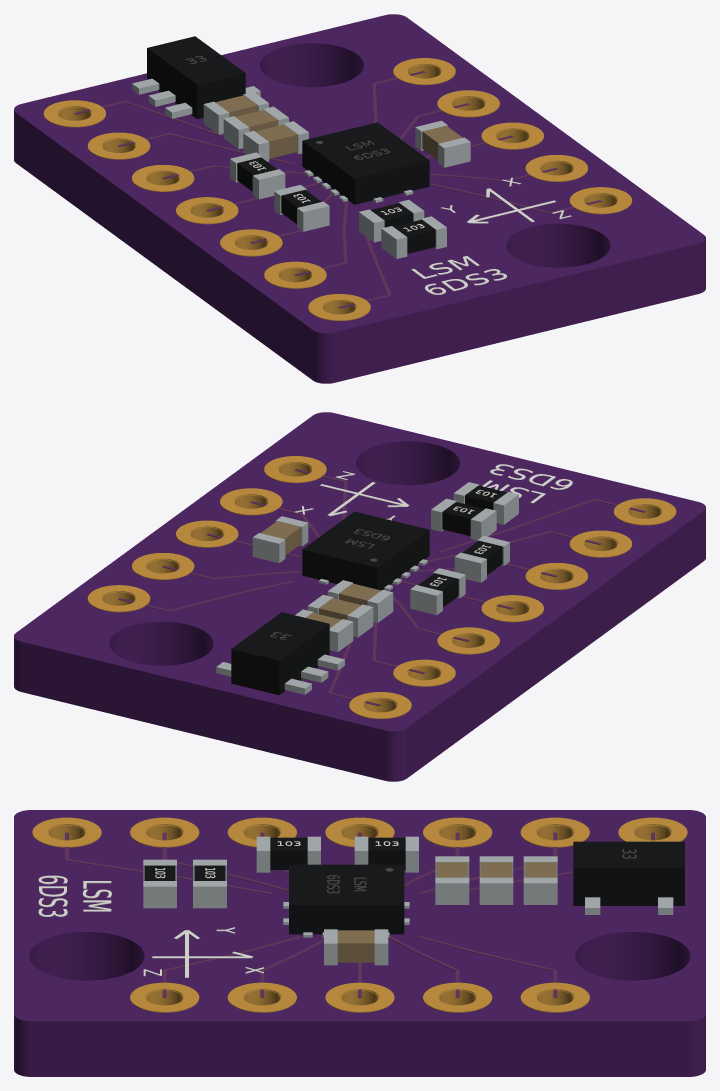
File: GY_LSM6DS3_reference_no_headers.glb
3 views of the same model, one above another, from view 1: azimuth 30°, elevation 25°; view 2: azimuth 150°, elevation 25°; view 3: azimuth 270°, elevation 25° (orthographic). The views are drawn at different scales.
Parts seen in each view (by area): view 1: Purple_PCB_13x18_two_holes_ESTIMATED, LSM6DS3_LGA14_2p5x3x0p83, Regulator_SOT23_5_ESTIMATED, Gold_pad_top_1, Gold_pad_top_2, Gold_pad_top_9, Gold_pad_top_5, Gold_pad_top_10, Gold_pad_top_4, Gold_pad_top_12, Gold_pad_top_6, Gold_pad_top_7 (+19 smaller); view 2: Purple_PCB_13x18_two_holes_ESTIMATED, LSM6DS3_LGA14_2p5x3x0p83, Regulator_SOT23_5_ESTIMATED, Gold_pad_top_7, Gold_pad_top_6, Gold_pad_top_11, Gold_pad_top_3, Gold_pad_top_10, Gold_pad_top_4, Gold_pad_top_8, Gold_pad_top_2, Gold_pad_top_1 (+18 smaller); view 3: Purple_PCB_13x18_two_holes_ESTIMATED, LSM6DS3_LGA14_2p5x3x0p83, Regulator_SOT23_5_ESTIMATED, Gold_pad_top_9, Gold_pad_top_11, Gold_pad_top_8, Gold_pad_top_10, Gold_pad_top_12, Gold_pad_top_3, Gold_pad_top_6, Gold_pad_top_7, Capacitor_right_body (+36 smaller).
Boxes of the visible parts, bbox=[...] form: Purple_PCB_13x18_two_holes_ESTIMATED: bbox=[14, 14, 705, 383]; LSM6DS3_LGA14_2p5x3x0p83: bbox=[302, 122, 429, 204]; Regulator_SOT23_5_ESTIMATED: bbox=[147, 36, 245, 119]; Gold_pad_top_1: bbox=[43, 100, 106, 127]; Gold_pad_top_2: bbox=[87, 132, 150, 159]; Gold_pad_top_9: bbox=[437, 90, 499, 117]; Gold_pad_top_5: bbox=[220, 229, 282, 256]; Gold_pad_top_10: bbox=[481, 122, 543, 149]; Gold_pad_top_4: bbox=[176, 197, 238, 224]; Gold_pad_top_12: bbox=[569, 187, 632, 214]; Gold_pad_top_6: bbox=[264, 261, 326, 288]; Gold_pad_top_7: bbox=[308, 294, 370, 320]; Purple_PCB_13x18_two_holes_ESTIMATED: bbox=[14, 412, 705, 781]; LSM6DS3_LGA14_2p5x3x0p83: bbox=[302, 511, 429, 590]; Regulator_SOT23_5_ESTIMATED: bbox=[231, 612, 329, 695]; Gold_pad_top_7: bbox=[613, 498, 676, 525]; Gold_pad_top_6: bbox=[569, 530, 632, 557]; Gold_pad_top_11: bbox=[220, 488, 282, 515]; Gold_pad_top_3: bbox=[437, 627, 499, 654]; Gold_pad_top_10: bbox=[176, 520, 238, 547]; Gold_pad_top_4: bbox=[481, 595, 543, 622]; Gold_pad_top_8: bbox=[87, 585, 150, 612]; Gold_pad_top_2: bbox=[393, 659, 455, 686]; Gold_pad_top_1: bbox=[349, 692, 411, 718]; Purple_PCB_13x18_two_holes_ESTIMATED: bbox=[14, 810, 705, 1076]; LSM6DS3_LGA14_2p5x3x0p83: bbox=[289, 864, 404, 934]; Regulator_SOT23_5_ESTIMATED: bbox=[573, 841, 684, 905]; Gold_pad_top_9: bbox=[423, 982, 492, 1012]; Gold_pad_top_11: bbox=[227, 982, 296, 1012]; Gold_pad_top_8: bbox=[520, 982, 589, 1012]; Gold_pad_top_10: bbox=[325, 982, 394, 1012]; Gold_pad_top_12: bbox=[130, 982, 199, 1012]; Gold_pad_top_3: bbox=[423, 817, 492, 847]; Gold_pad_top_6: bbox=[130, 817, 199, 847]; Gold_pad_top_7: bbox=[32, 817, 101, 847]; Capacitor_right_body: bbox=[337, 930, 374, 962].
Size of the model in its own units: 0.013 by 0.00277 by 0.018.
